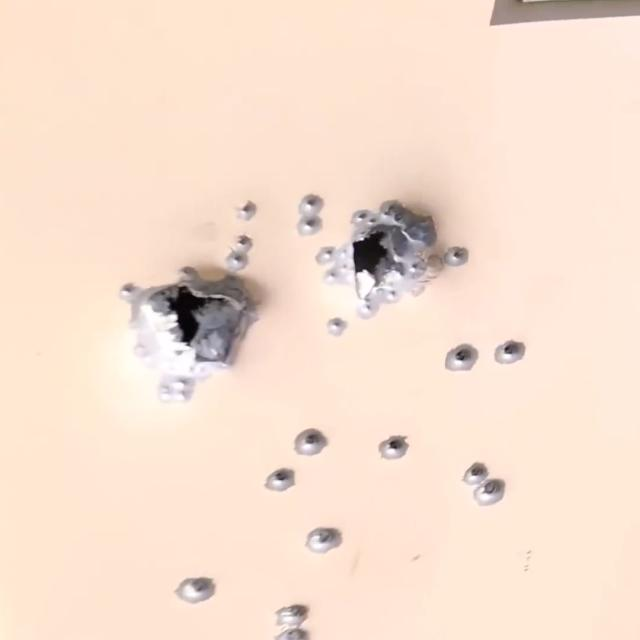bullets: (175, 571, 220, 608), (304, 526, 344, 552), (448, 346, 482, 372), (494, 342, 528, 365), (296, 431, 330, 454), (378, 437, 410, 460), (296, 191, 325, 216), (296, 214, 327, 237), (276, 604, 311, 624), (461, 463, 492, 485), (272, 625, 316, 640), (479, 483, 504, 507), (226, 249, 251, 273), (265, 469, 294, 489), (445, 246, 469, 267), (169, 373, 195, 391), (235, 201, 259, 220), (233, 233, 256, 252), (328, 319, 348, 337), (319, 247, 337, 266), (382, 202, 401, 218), (118, 283, 136, 297), (353, 207, 371, 221)
